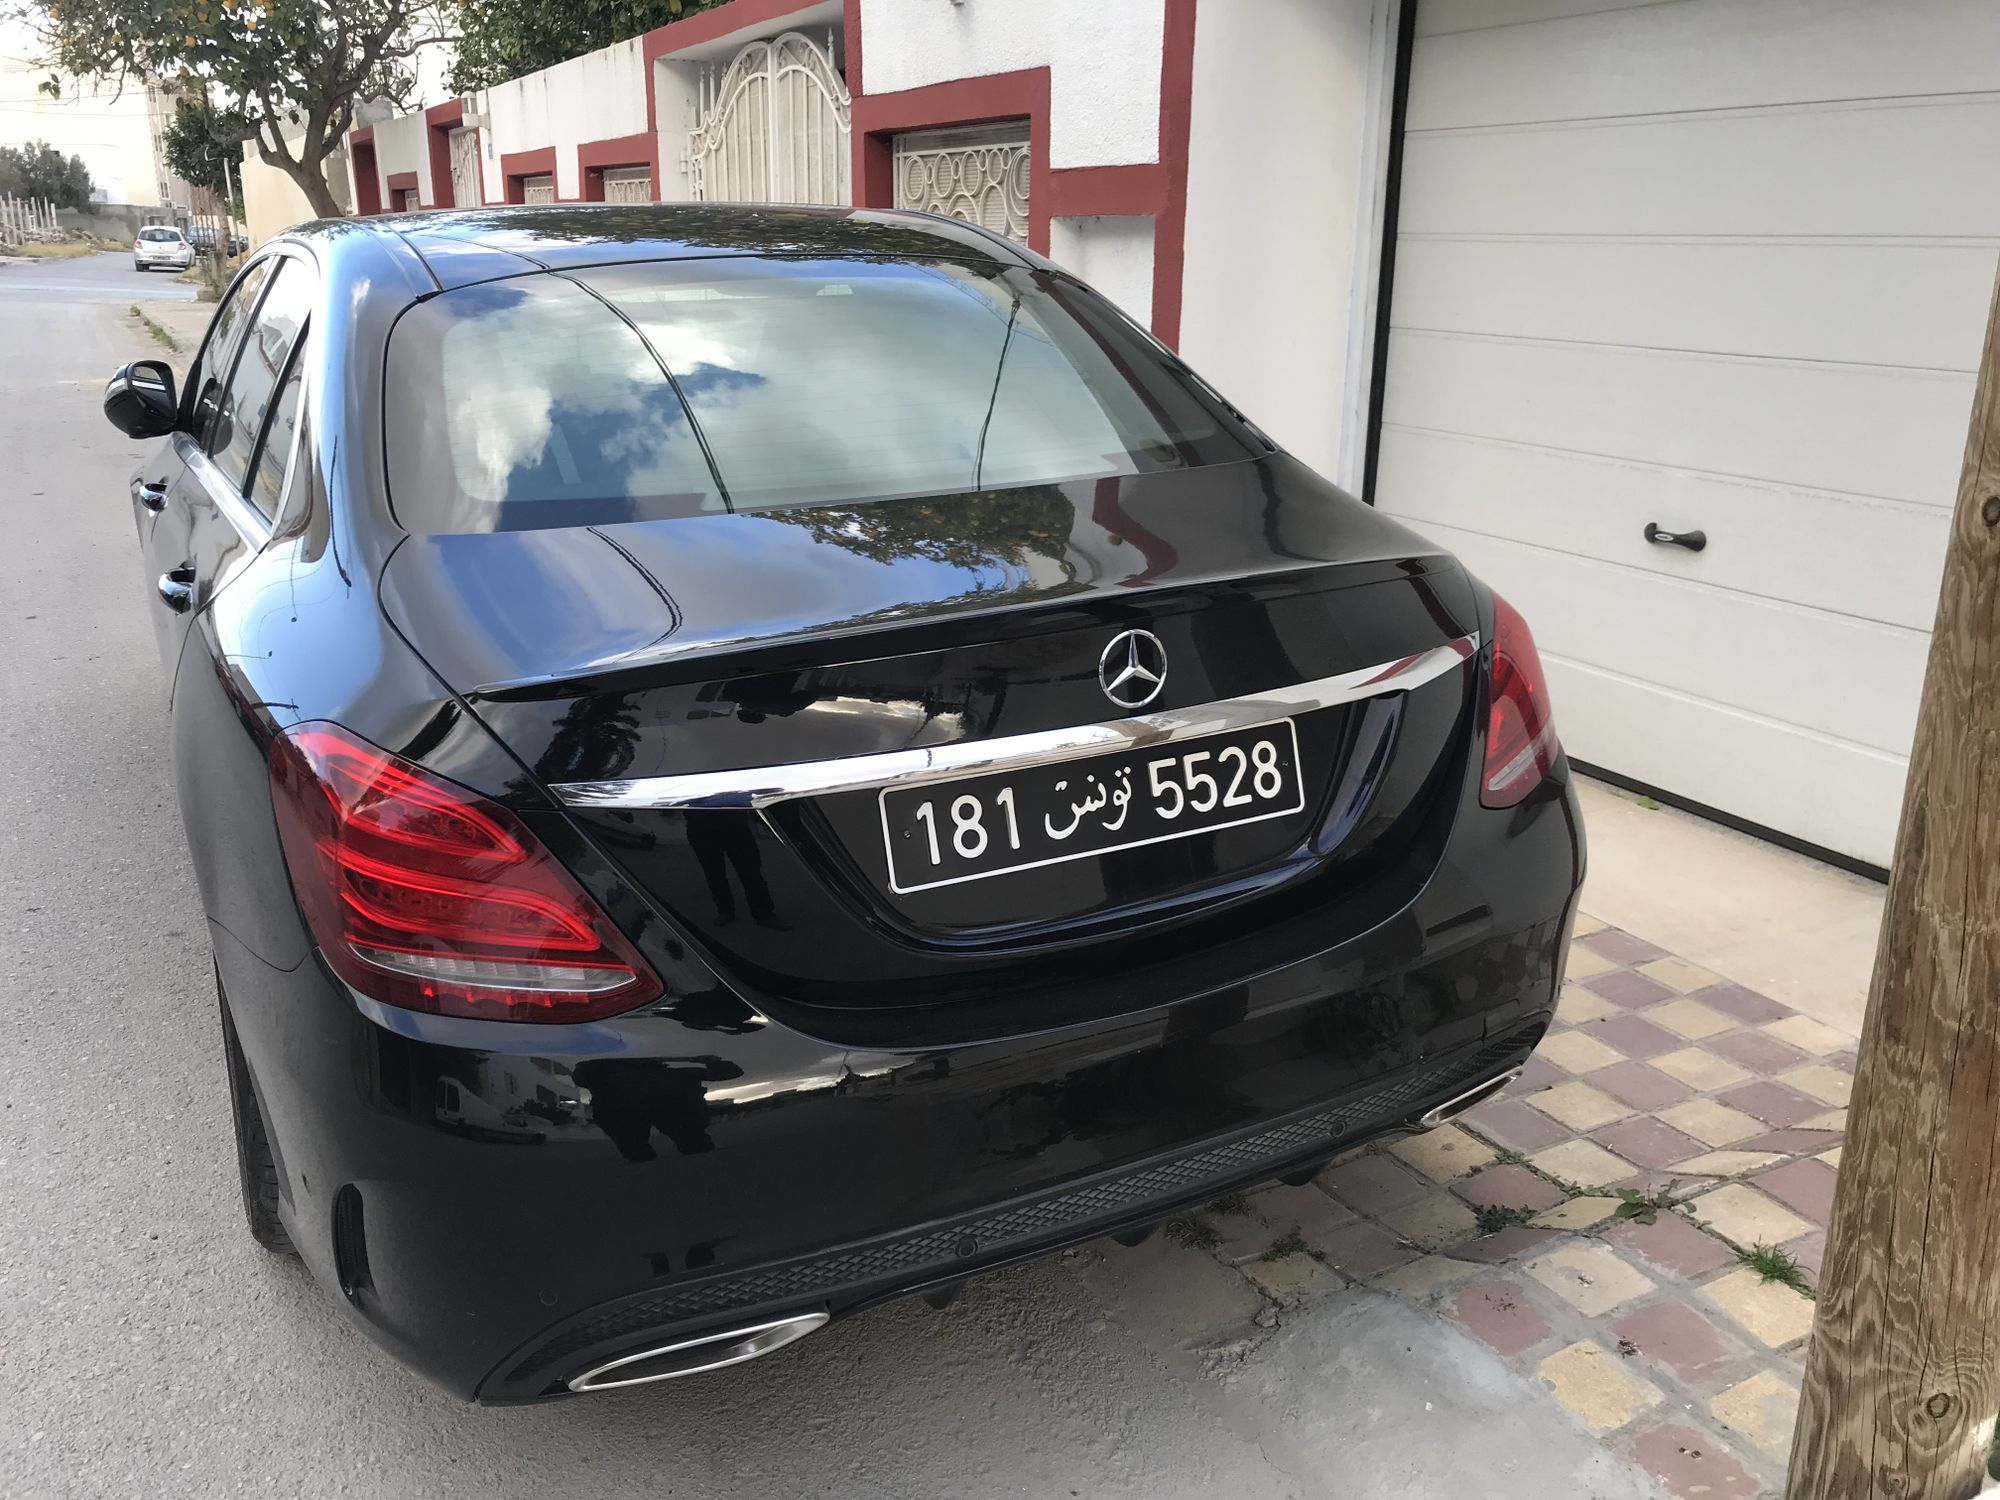LP: (873, 719, 1318, 905)
